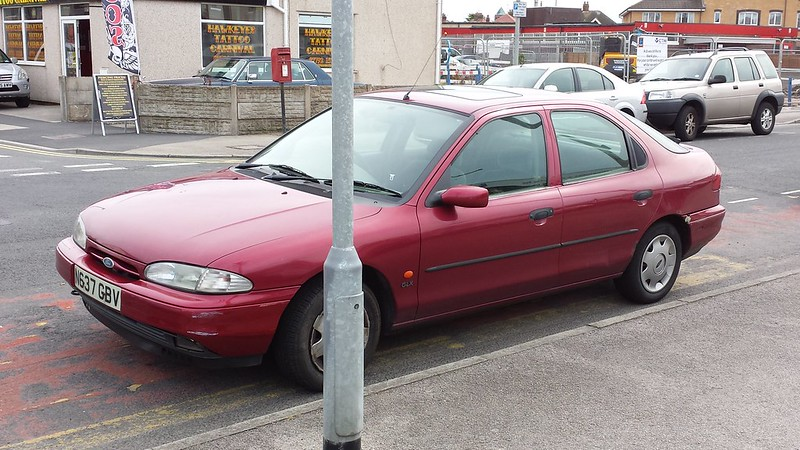number_plate: (68, 265, 120, 315)
